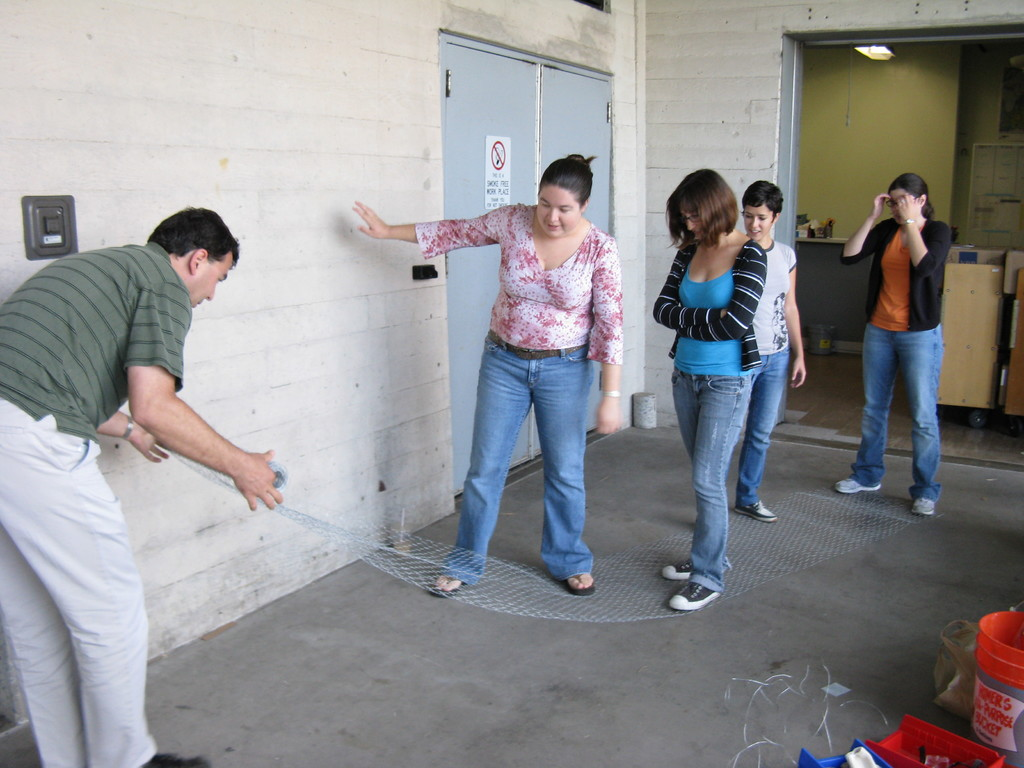Footwear: (657, 550, 735, 618), (145, 746, 210, 767), (735, 493, 780, 522), (424, 570, 461, 602), (834, 475, 884, 495), (659, 553, 694, 581), (570, 572, 601, 597), (915, 492, 934, 518)
